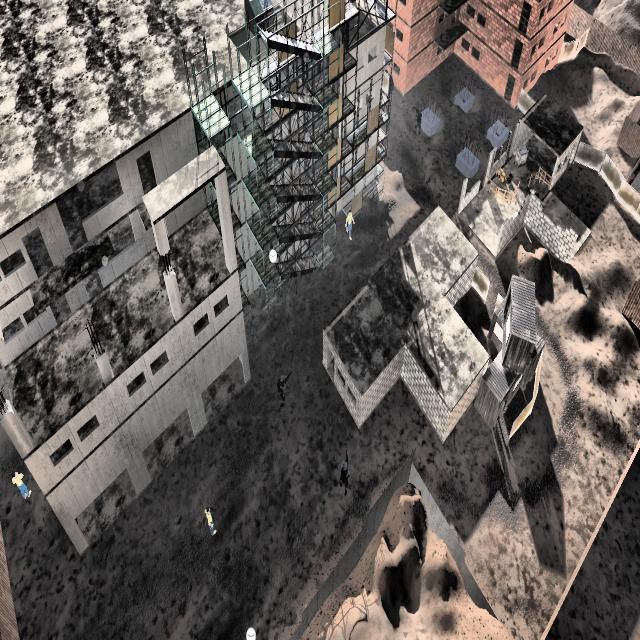bad: (334, 446, 354, 506), (273, 363, 293, 412), (413, 100, 424, 138)
good: (9, 458, 32, 509), (341, 203, 357, 249), (201, 504, 220, 542)
